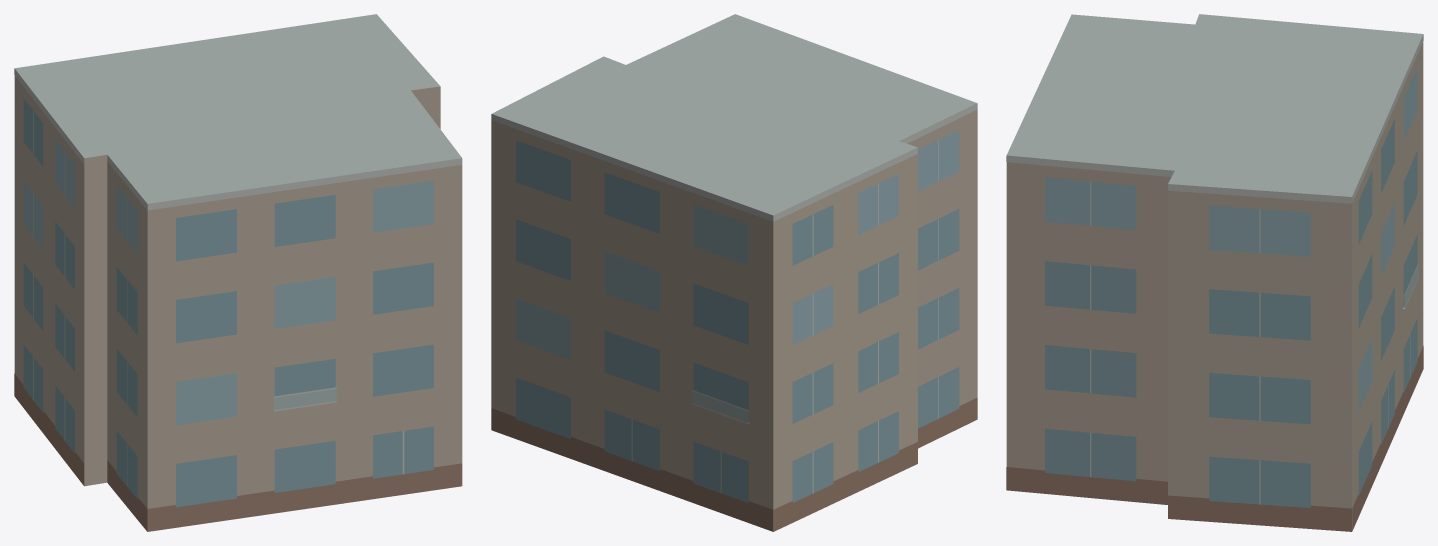
Rendered from survey-upis-32710289.glb.
3 views of the same model, side by side, from view 1: azimuth 30°, elevation 25°; view 2: azimuth 150°, elevation 25°; view 3: azimuth 270°, elevation 25° (orthographic). The views are drawn at different scales.
Parts seen in each view (by area): view 1: survey-upis-32710289.tmp; view 2: survey-upis-32710289.tmp; view 3: survey-upis-32710289.tmp.
Boxes of the visible parts, x1=… form: survey-upis-32710289.tmp: x1=14, y1=14, x2=462, y2=531; survey-upis-32710289.tmp: x1=491, y1=14, x2=977, y2=531; survey-upis-32710289.tmp: x1=1006, y1=14, x2=1423, y2=531.
Bounding box in the file's own units: 14.31 × 12.2 × 13.78.
